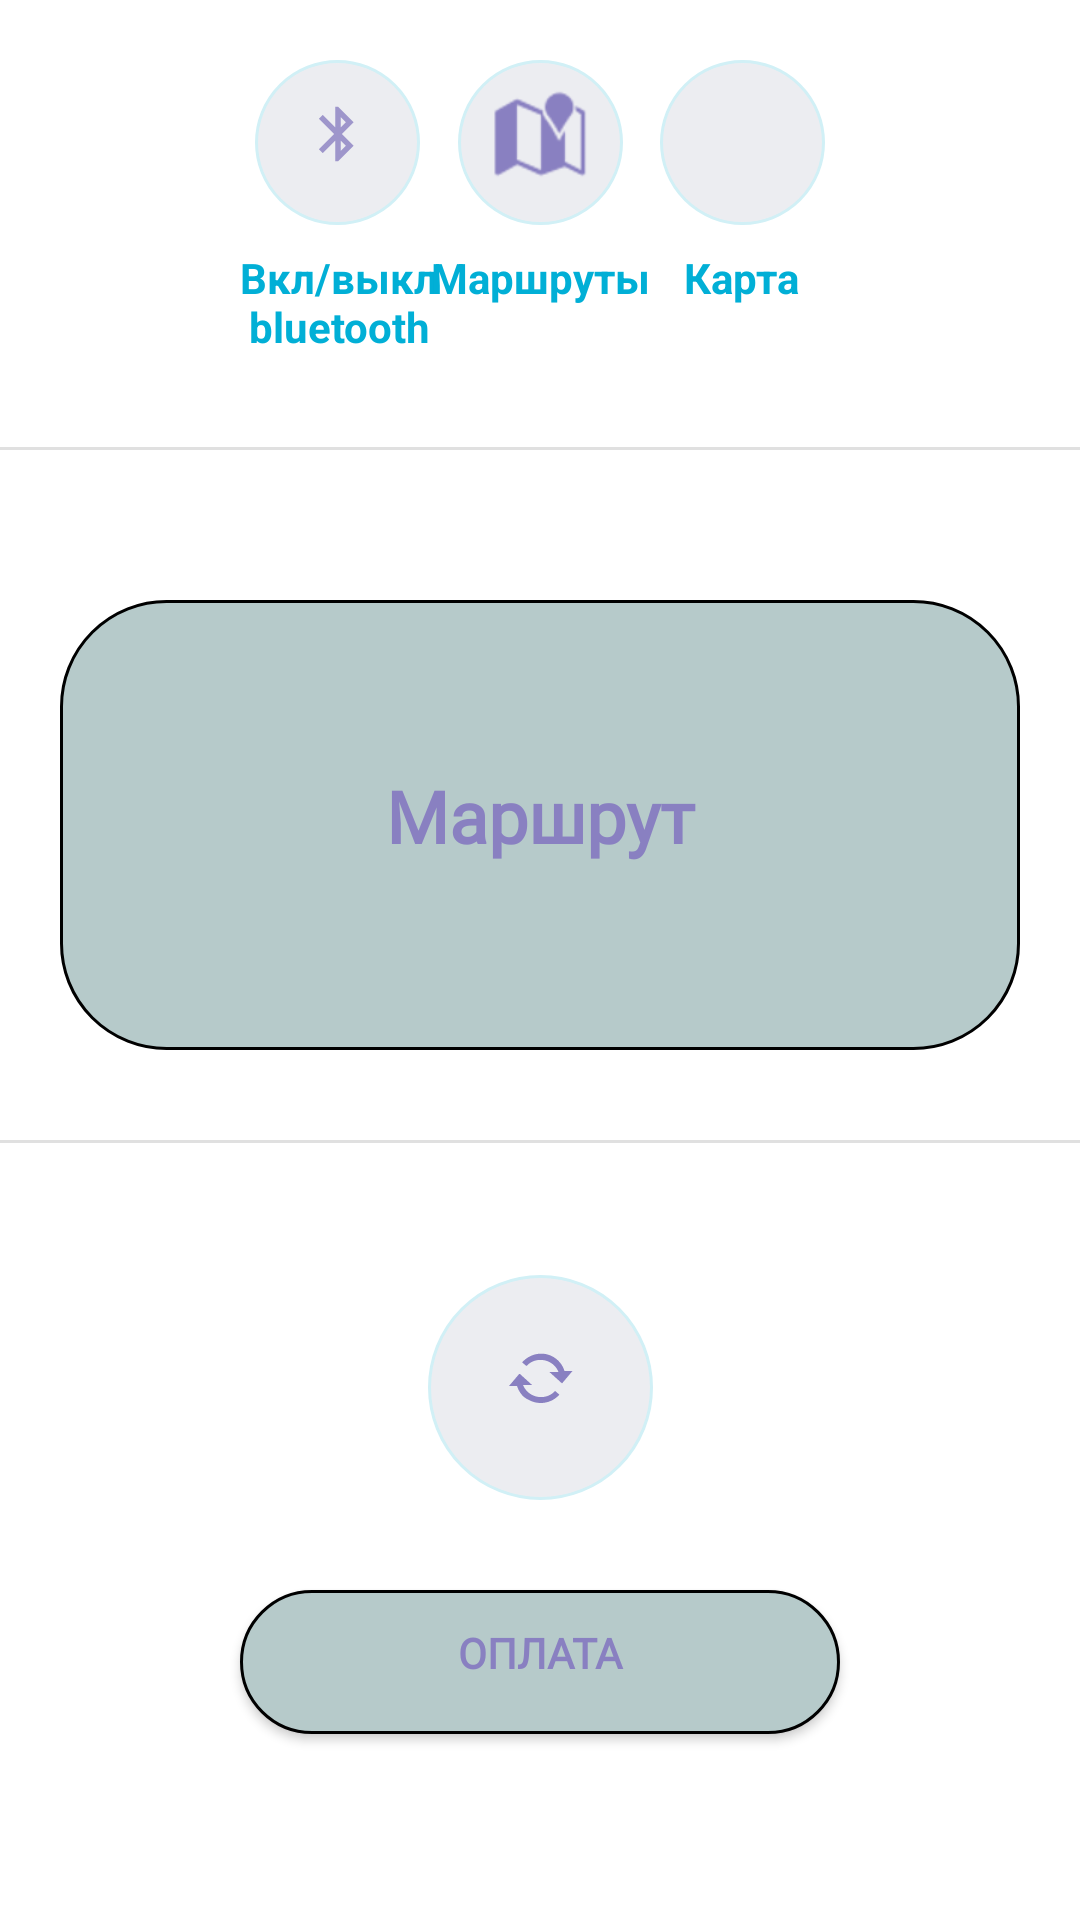

Where icons sit on this 1080×1920 app screen, as (x1, y1, x2, y2):
map: (458, 60, 623, 225)
sync noanim: (428, 1275, 653, 1500)
